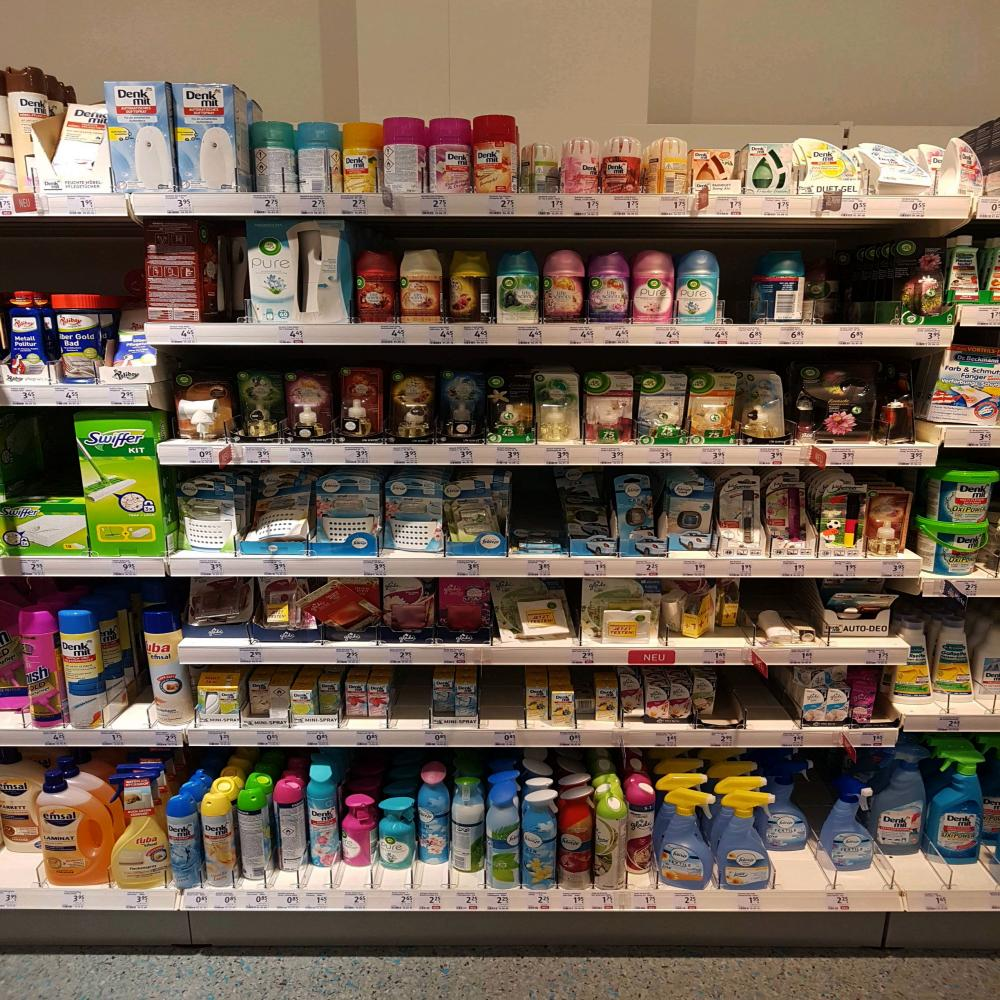shelf: (0, 885, 1000, 913), (0, 193, 1000, 220), (145, 321, 953, 349), (0, 726, 898, 749), (157, 442, 942, 468), (0, 556, 924, 578), (176, 645, 910, 665), (0, 384, 149, 406), (899, 714, 1000, 731), (919, 579, 1000, 597), (939, 425, 1000, 447), (951, 302, 1000, 326)
